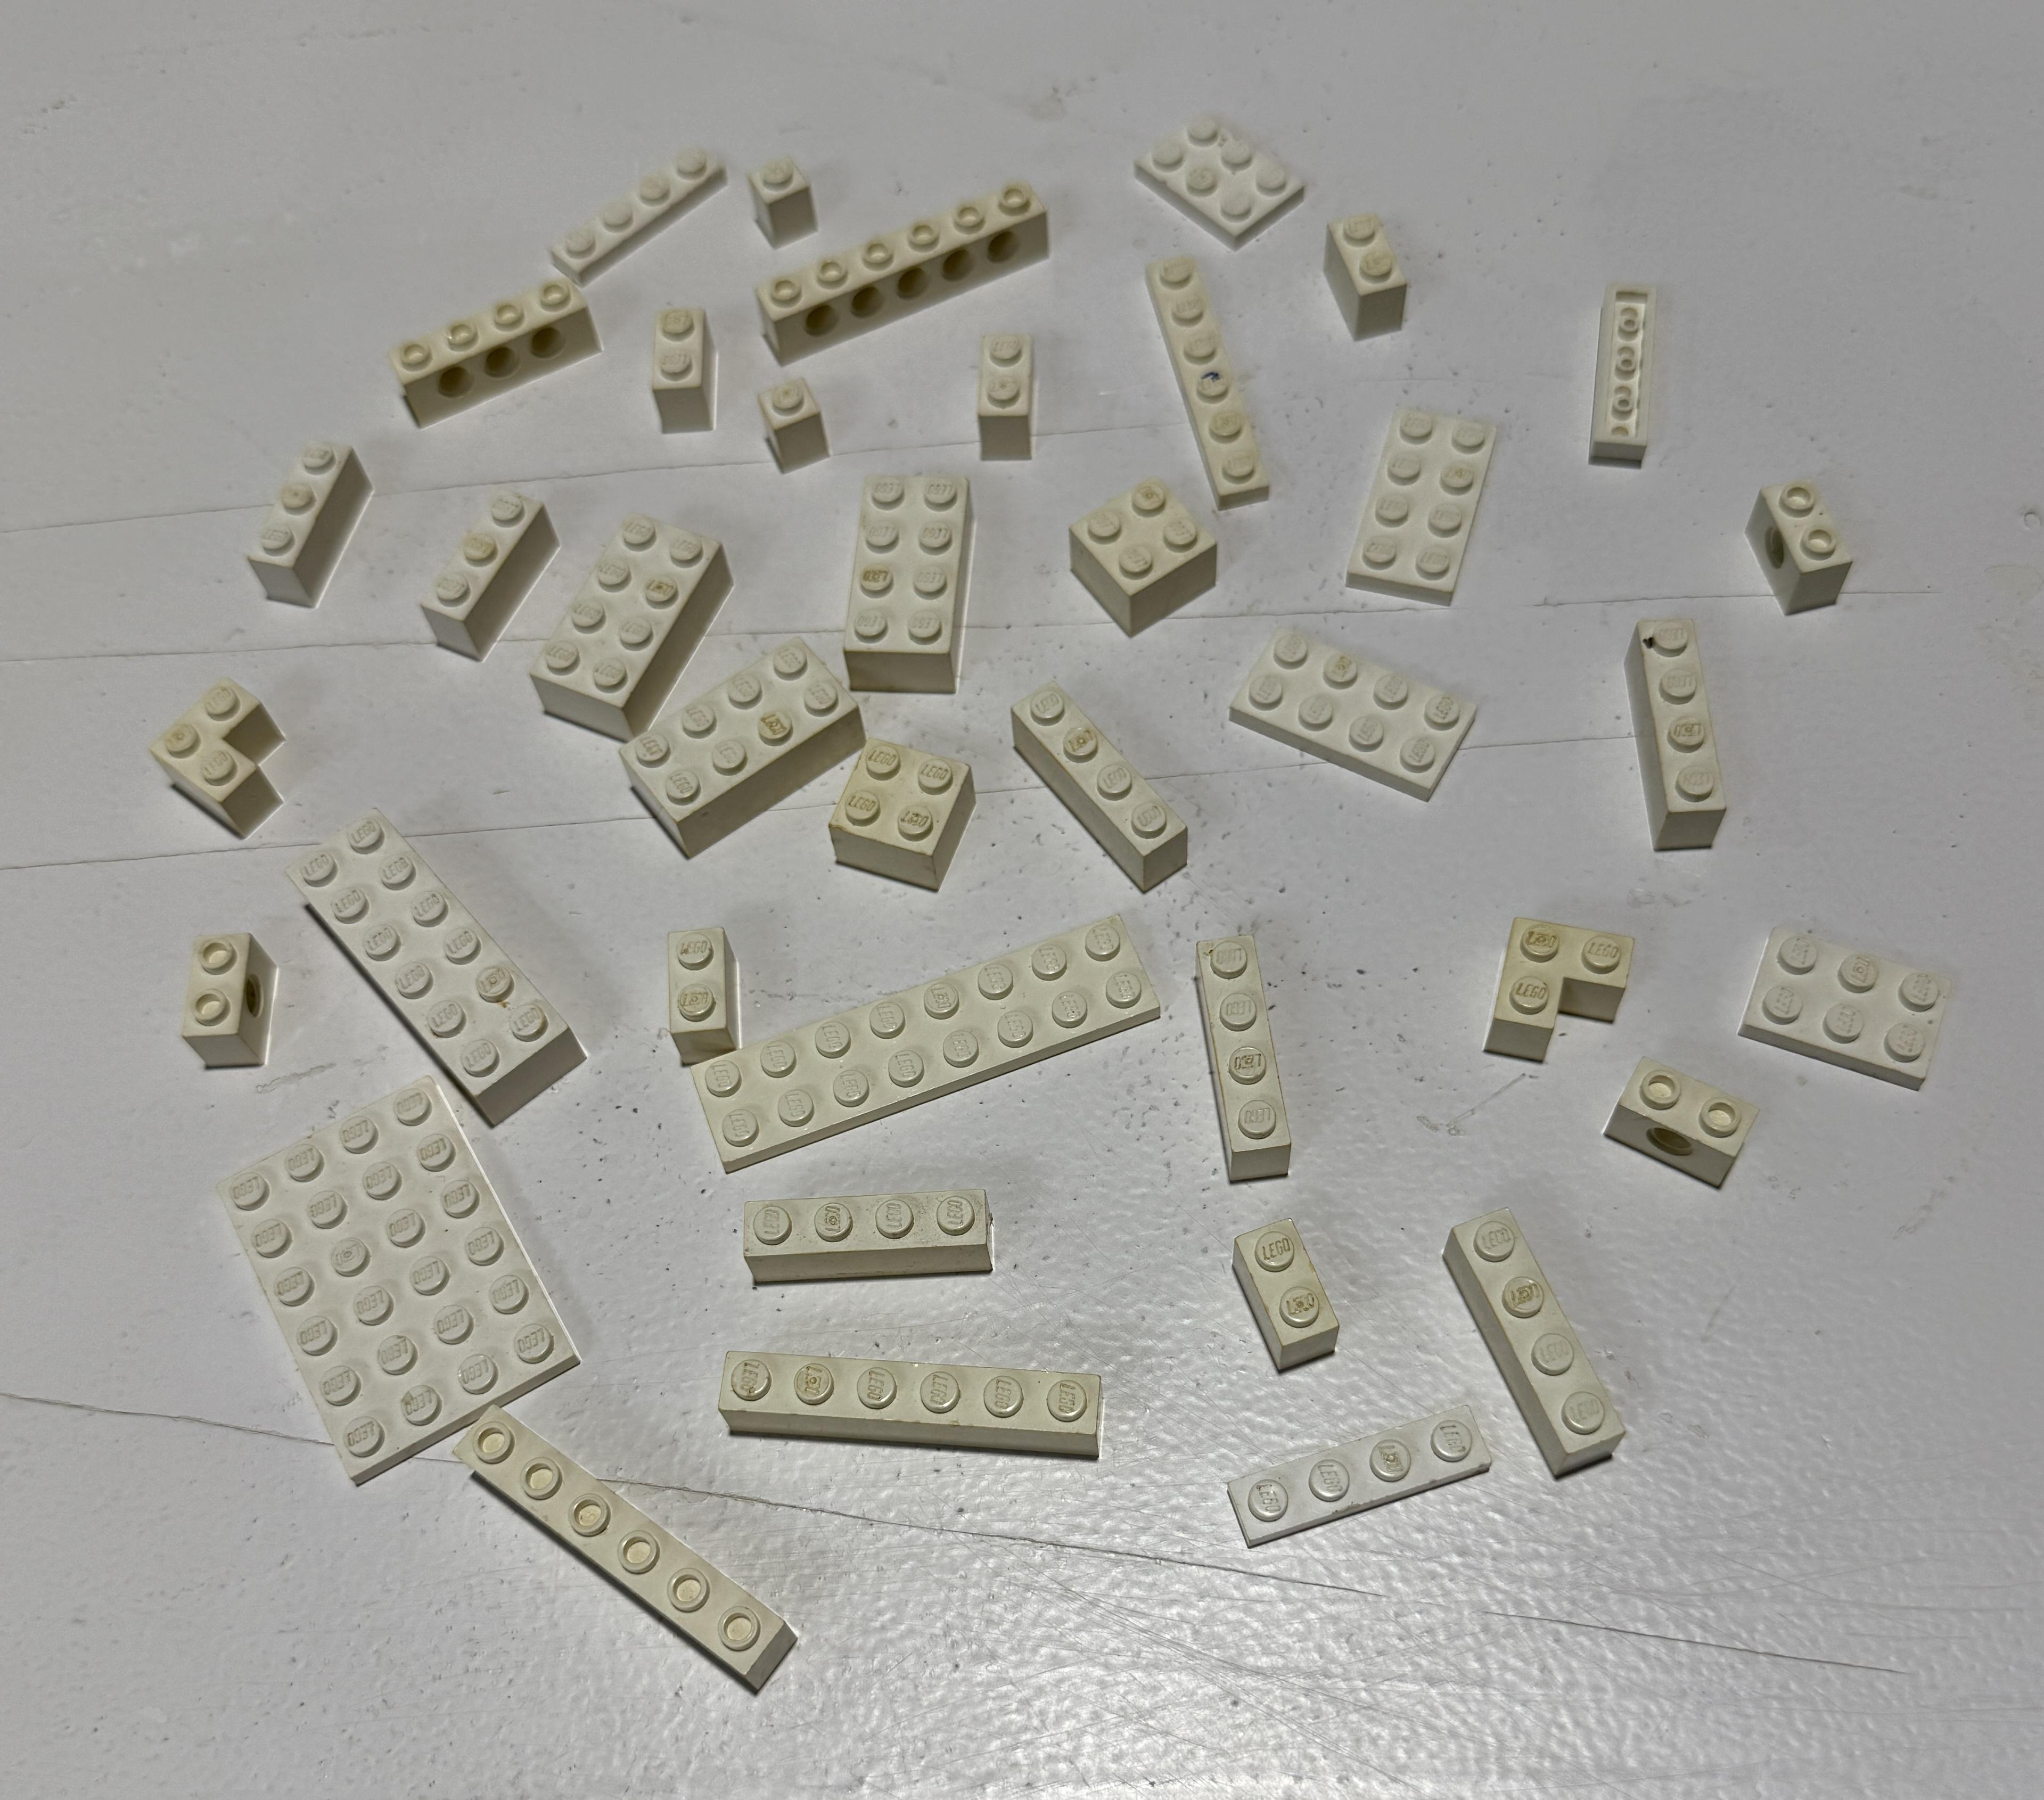brick_1x1: (735, 353, 862, 504), (742, 134, 846, 264)
brick_1x2: (1222, 1199, 1370, 1407), (1594, 1034, 1782, 1195), (1722, 462, 1877, 653), (1297, 182, 1457, 356), (170, 903, 295, 1102), (657, 895, 770, 1079), (946, 309, 1069, 467), (620, 280, 739, 441)
brick_1x3: (412, 467, 591, 685), (236, 419, 386, 634)
brick_1x4: (1003, 669, 1206, 912), (1158, 917, 1319, 1206), (360, 245, 607, 433), (695, 1155, 1031, 1293), (1611, 589, 1755, 879)
brick_2x2: (1052, 464, 1231, 665), (815, 719, 994, 893)
brick_2x4: (582, 624, 892, 867), (509, 495, 742, 744), (820, 459, 987, 712)
